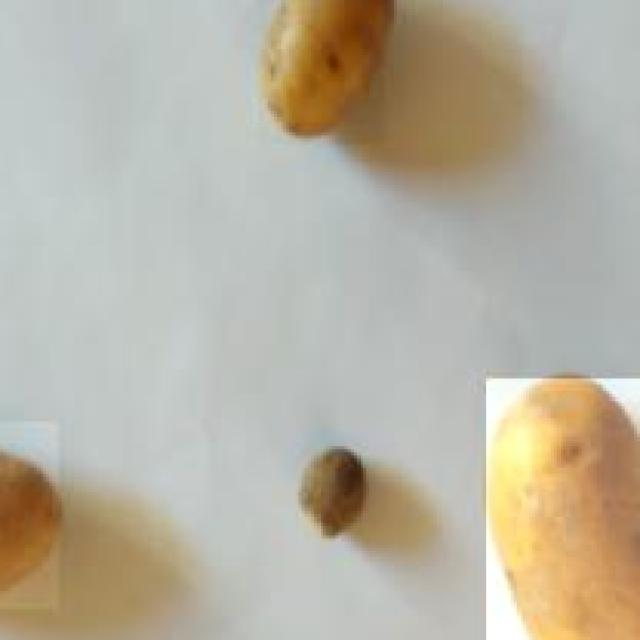potato: (486, 372, 640, 640), (258, 0, 388, 145), (0, 418, 62, 610)
